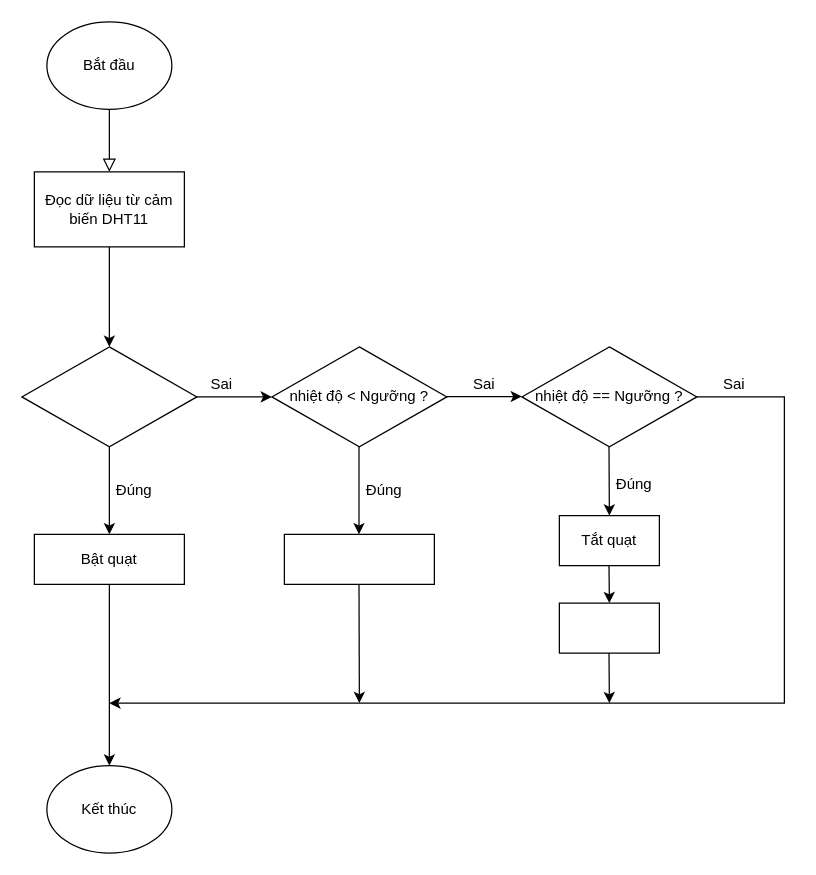
Some shapes in this 816 by 875 pixel diagram are drawn without their labels. The centre of each missing label's shape, as x and y in pixels:
Bật máy sưởi: the point at 358,558
nhiệt độ > Ngưỡng ?: the point at 109,396
Tắt máy sưởi: the point at 608,627
